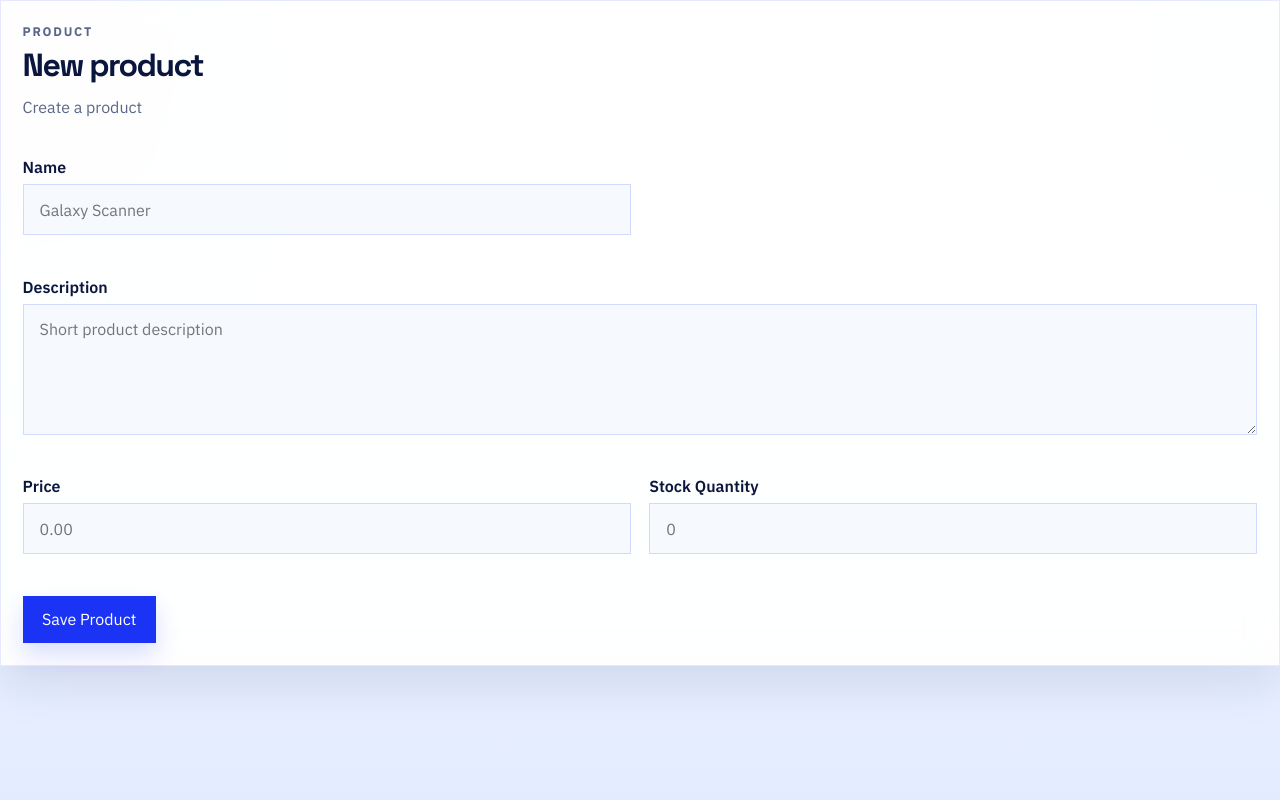
Test case: ProductForm › validates required fields
Step 1. Click the button "Save Product" → (89, 619), box [23,596,156,643]
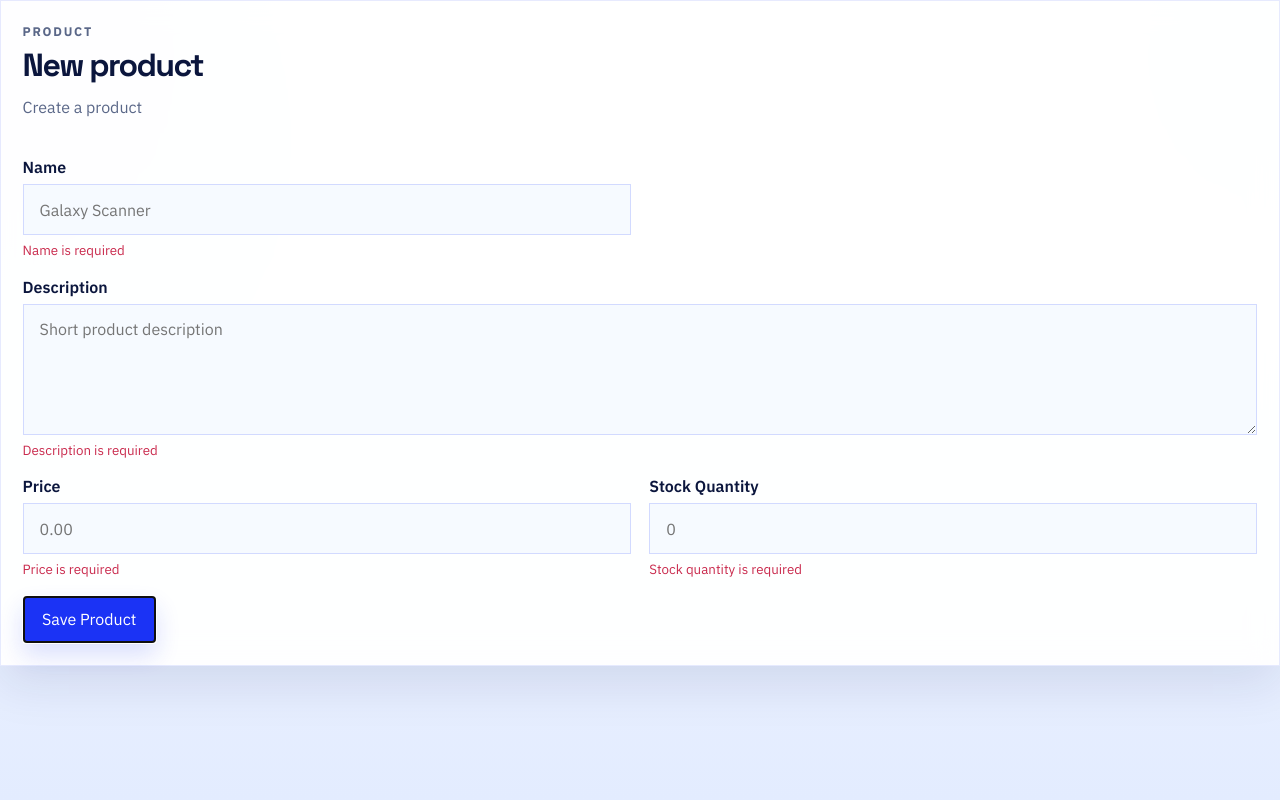
Now the text "Name is required" is shown, box [23,241,125,259]
Now the text "Description is required" is shown, box [23,441,158,459]
Now the text "Price is required" is shown, box [23,560,120,578]
